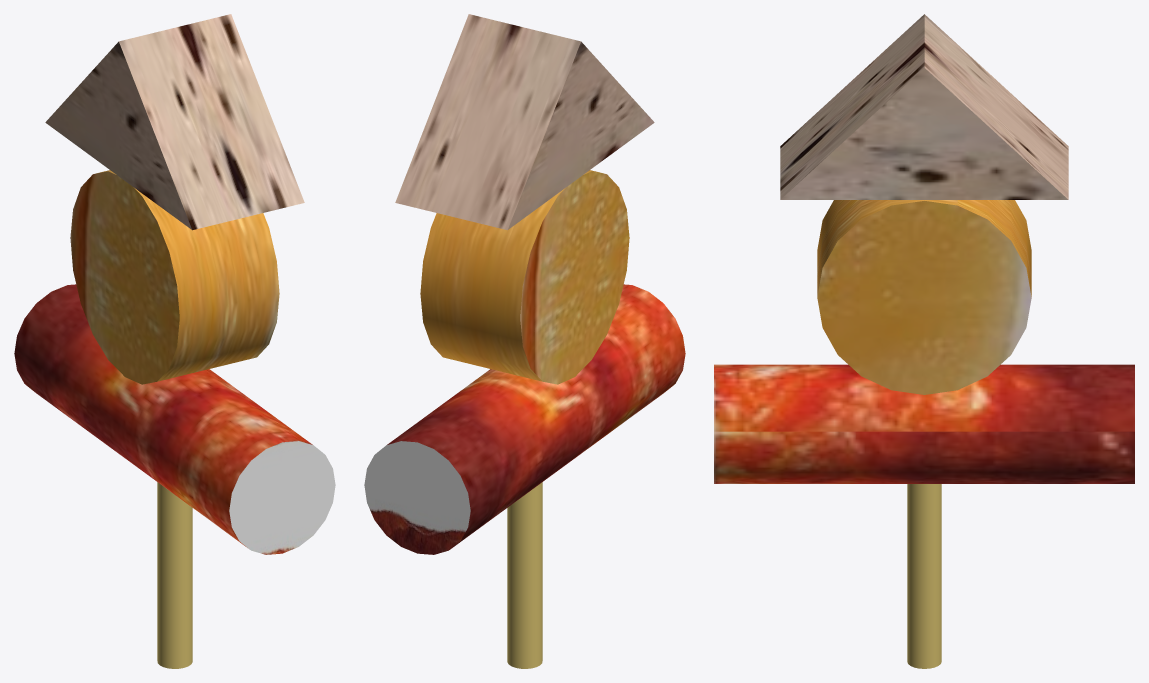
The model's file is Oden.fbx.
3 renders of one model, left to right at view 1: azimuth 30°, elevation 25°; view 2: azimuth 150°, elevation 25°; view 3: azimuth 270°, elevation 25°, orthographic. The views are drawn at different scales.
Parts seen in each view (by area): view 1: pCylinder4; view 2: pCylinder4; view 3: pCylinder4.
Part boxes in pixels (left/top/right/bottom): pCylinder4: left=14, top=14, right=335, bottom=668; pCylinder4: left=364, top=14, right=685, bottom=668; pCylinder4: left=714, top=14, right=1134, bottom=668.
Bounding box in the file's own units: 1.47 × 7.92 × 4.87.
4 materials, 3 textured.
